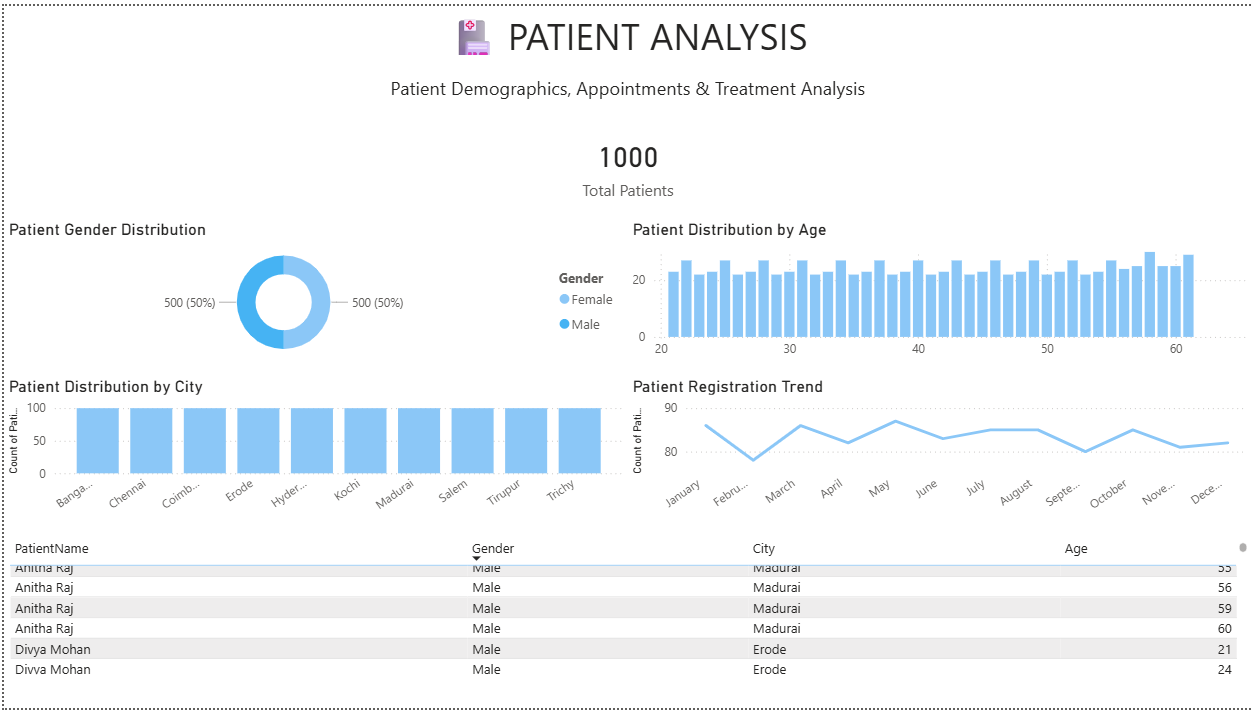

This screenshot's page, from the dashboard's own definition file:
{"tool":"powerbi","page":{"name":"Patient Analysis","canvas":[1280,720],"ordinal":1},"visuals":[{"type":"textbox","box":[0,0,1279.7,75.9],"z":0},{"type":"textbox","box":[0,67.1,1279.7,58.2],"z":1000},{"type":"tableEx","fields":{"Values":["healthcare_analysis patients.PatientName","healthcare_analysis patients.Gender","healthcare_analysis patients.City","healthcare_analysis patients.Age"]},"box":[0,539.8,1280,150.4],"z":2000},{"type":"card","fields":{"Values":["CountNonNull(healthcare_analysis patients.PatientID)"]},"box":[0,105.8,1280.2,115.1],"z":3000},{"type":"donutChart","title":"Patient Gender Distribution","fields":{"Category":["healthcare_analysis patients.Gender"],"Y":["CountNonNull(healthcare_analysis patients.PatientID)"]},"box":[0,219.8,640,150.4],"z":4000},{"type":"columnChart","title":"Patient Distribution by Age","fields":{"Y":["CountNonNull(healthcare_analysis patients.PatientID)"],"Category":["healthcare_analysis patients.Age"]},"box":[640,219.8,640,150.4],"z":5000},{"type":"clusteredColumnChart","title":"Patient Distribution by City","fields":{"Category":["healthcare_analysis patients.City"],"Y":["CountNonNull(healthcare_analysis patients.PatientID)"]},"box":[0,380,640,150],"z":6000},{"type":"lineChart","title":"Patient Registration Trend","fields":{"Y":["CountNonNull(healthcare_analysis patients.PatientID)"],"Category":["healthcare_analysis patients.RegistrationDate.Variation.Date Hierarchy.Year","healthcare_analysis patients.RegistrationDate.Variation.Date Hierarchy.Month"]},"box":[640,380,640,150],"z":7000}]}

Visuals, with their boxes in screenshot pixels (x1, y1, x2, y2), scaled from the page's 1280x720 canvas onto the 1252x711 screenshot:
textbox: bbox=[0, 0, 1251, 75]
textbox: bbox=[0, 66, 1251, 124]
tableEx - healthcare_analysis patients.PatientName x healthcare_analysis patients.Gender: bbox=[0, 533, 1251, 682]
card - CountNonNull(healthcare_analysis patients.PatientID): bbox=[0, 104, 1251, 218]
"Patient Gender Distribution" donutChart: bbox=[0, 217, 626, 366]
"Patient Distribution by Age" columnChart: bbox=[626, 217, 1251, 366]
"Patient Distribution by City" clusteredColumnChart: bbox=[0, 375, 626, 523]
"Patient Registration Trend" lineChart: bbox=[626, 375, 1251, 523]
